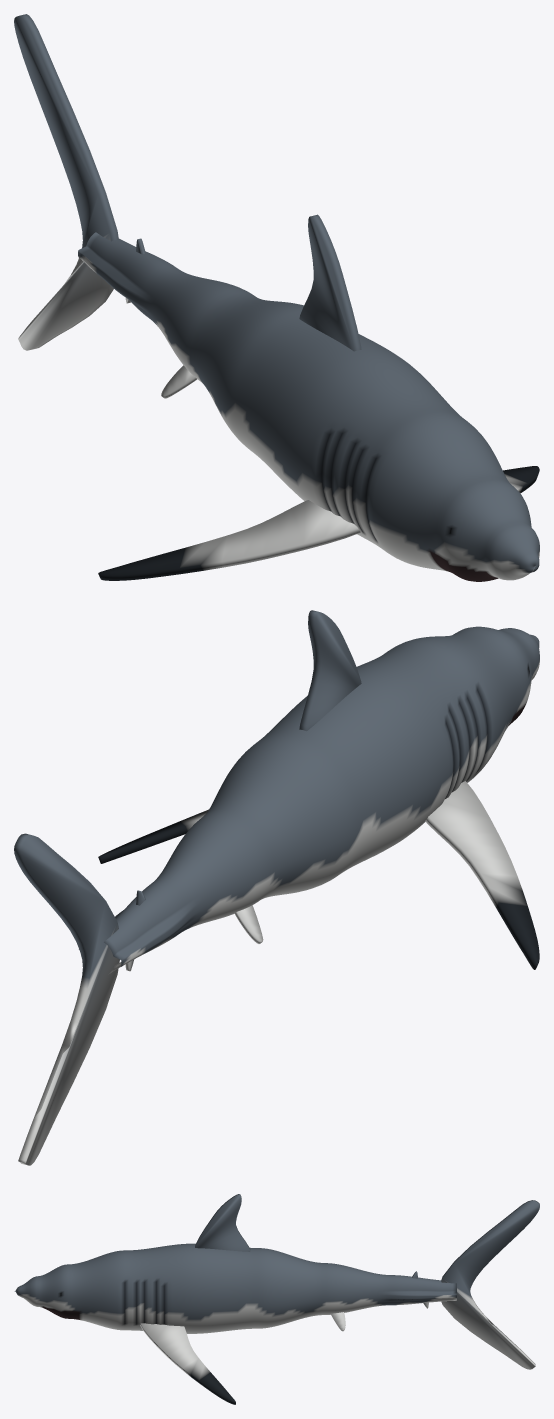
The model's file is whiteshark.glb.
3 views of the same model, one above another, from view 1: azimuth 30°, elevation 25°; view 2: azimuth 150°, elevation 25°; view 3: azimuth 270°, elevation 25° (orthographic). The views are drawn at different scales.
Parts seen in each view (by area): view 1: whiteshark; view 2: whiteshark; view 3: whiteshark.
Part boxes in pixels (bbox=[...]): whiteshark: bbox=[14, 14, 539, 581]; whiteshark: bbox=[14, 610, 539, 1165]; whiteshark: bbox=[14, 1194, 539, 1404].
Bounding box in the file's own units: 0.4659 × 0.3468 × 0.9512.
